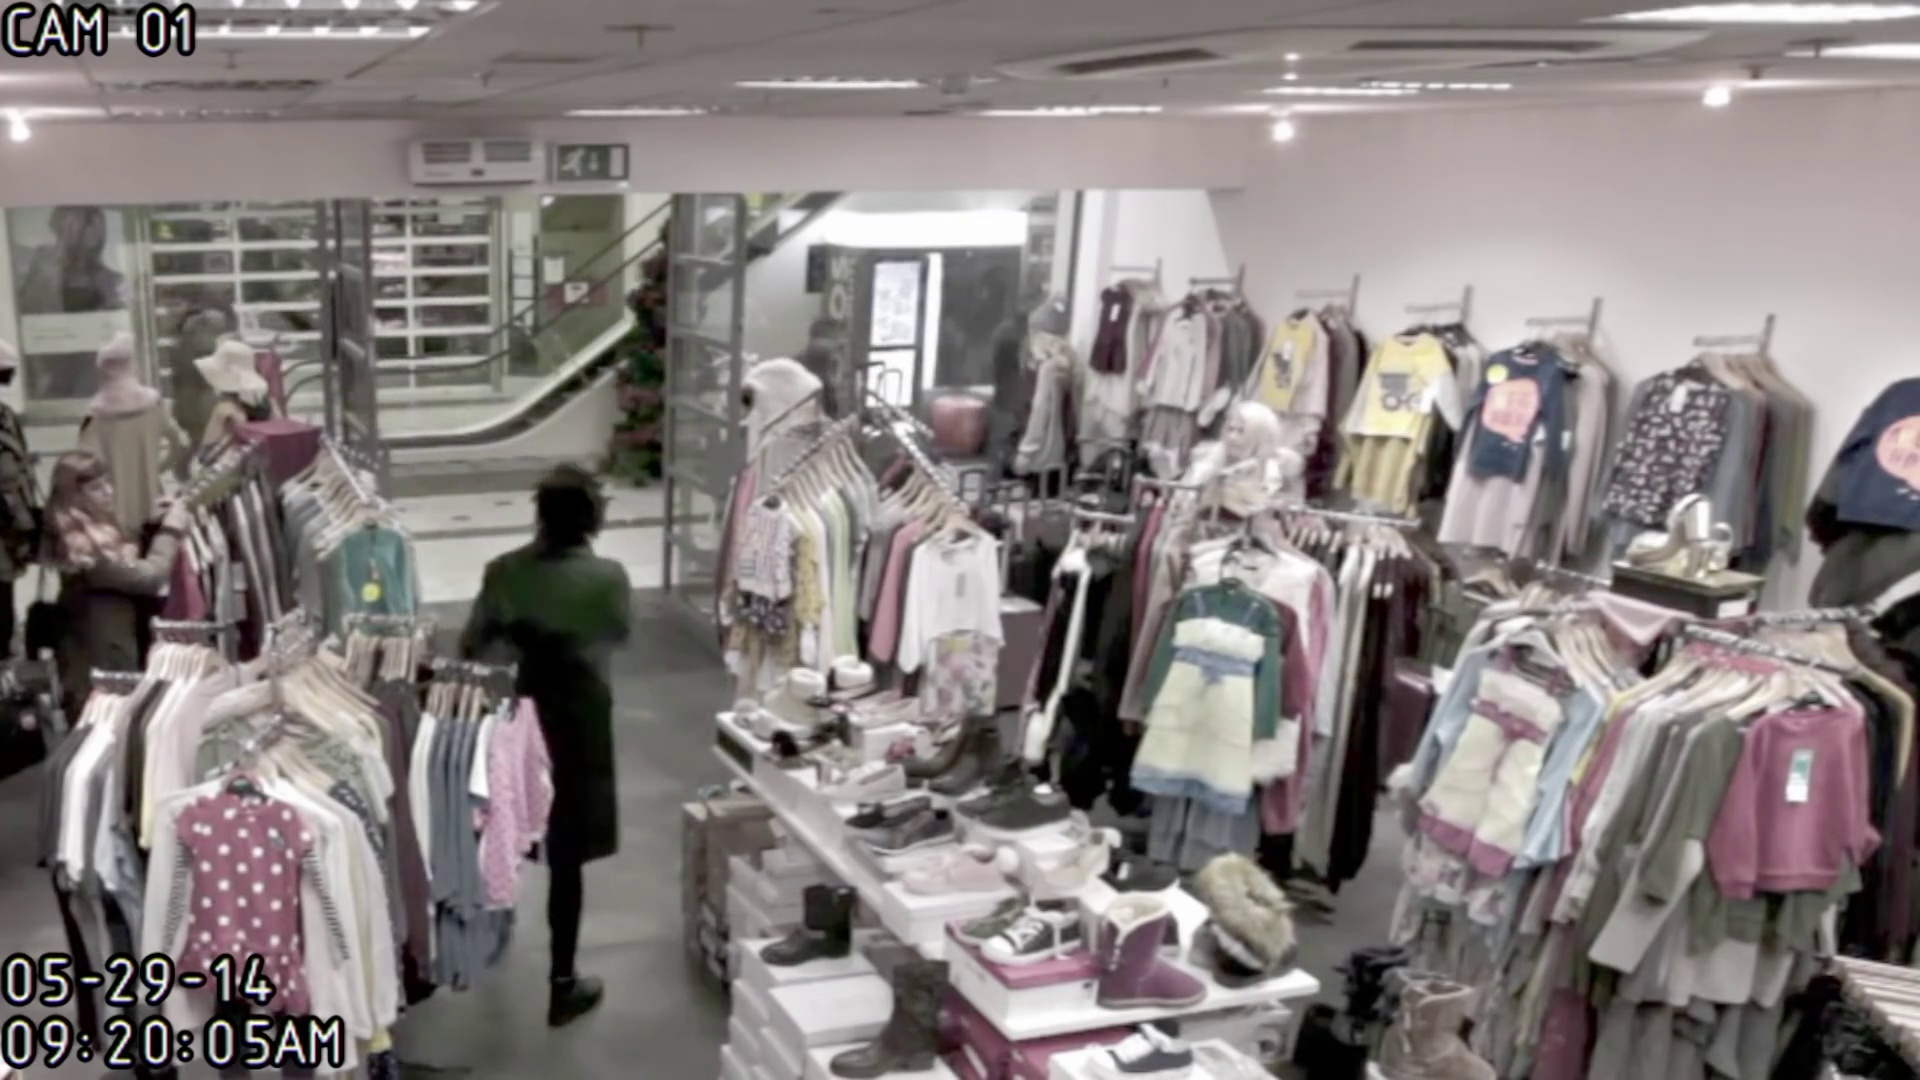face: (63, 465, 116, 518)
